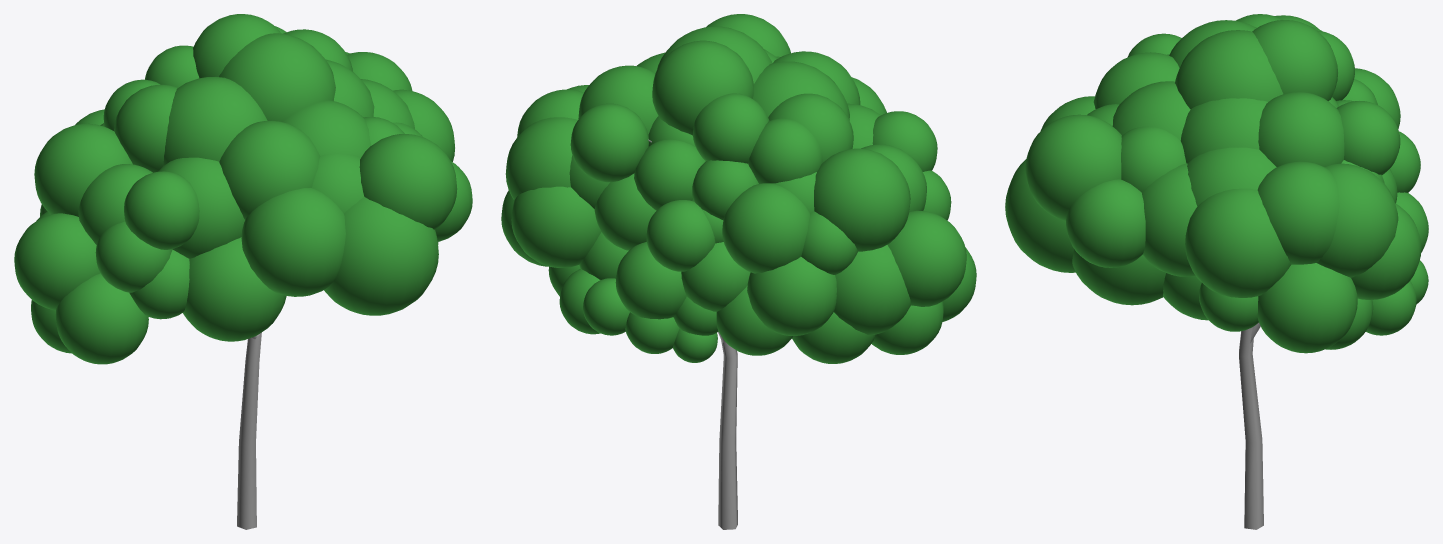
Rendered from agac3.fbx.
3 views of the same model, side by side, from view 1: azimuth 30°, elevation 25°; view 2: azimuth 150°, elevation 25°; view 3: azimuth 270°, elevation 25° (orthographic). The views are drawn at different scales.
Parts seen in each view (by area): view 1: agac; view 2: agac; view 3: agac.
Boxes of the visible parts, left/top/right/bottom form: agac: left=14, top=14, right=472, bottom=529; agac: left=501, top=14, right=976, bottom=529; agac: left=1005, top=14, right=1428, bottom=529.
Bounding box in the file's own units: 16.03 × 17.7 × 13.44.
